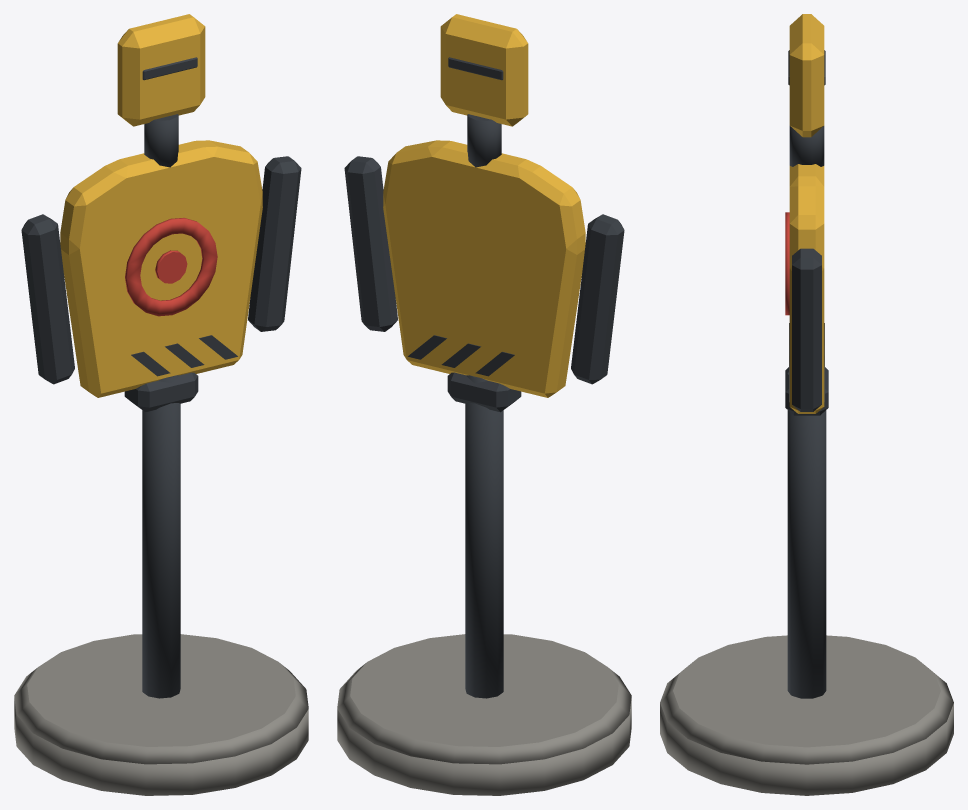
Rendered from target_dummy.obj.
3 views of the same model, side by side, from view 1: azimuth 30°, elevation 25°; view 2: azimuth 150°, elevation 25°; view 3: azimuth 270°, elevation 25° (orthographic).
Visible parts, largest first — view 1: target_dummy; view 2: target_dummy; view 3: target_dummy.
Part boxes in pixels (left/top/right/bottom): target_dummy: left=14, top=14, right=308, bottom=795; target_dummy: left=337, top=14, right=631, bottom=795; target_dummy: left=660, top=14, right=953, bottom=795.
Bounding box in the file's own units: 0.7249 × 1.8 × 0.68.
